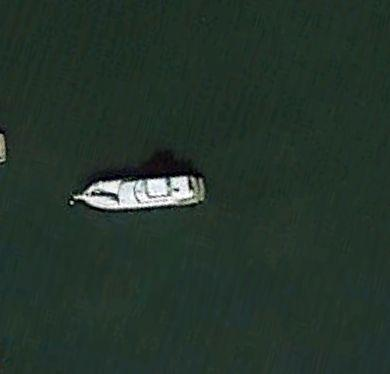Ships: (59, 168, 217, 241)
